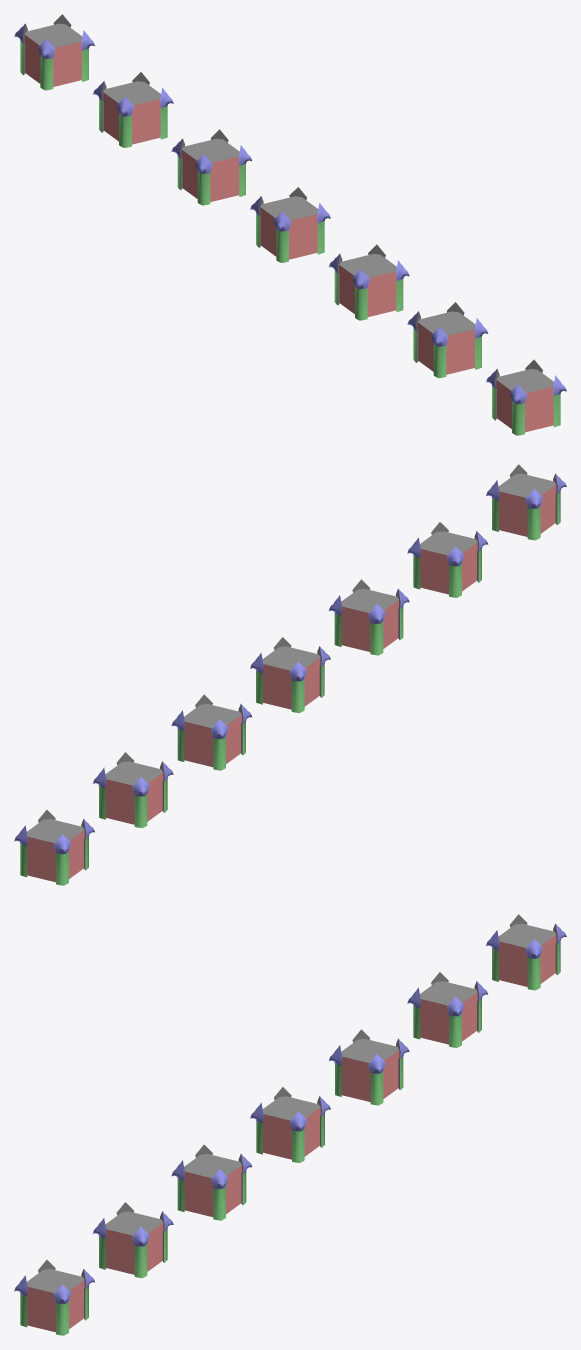
File: SSQ_dungeon_S__SSQ_Room01_pillar01.gltf
3 views of the same model, one above another, from view 1: azimuth 30°, elevation 25°; view 2: azimuth 150°, elevation 25°; view 3: azimuth 330°, elevation 25° (orthographic).
Visible parts, largest first — view 1: SSQ_Room01_pillar01; view 2: SSQ_Room01_pillar01; view 3: SSQ_Room01_pillar01.
Boxes of the visible parts, x1,y1,x2,y2 form: SSQ_Room01_pillar01: (14,14,566,435); SSQ_Room01_pillar01: (14,464,566,885); SSQ_Room01_pillar01: (14,914,566,1335).
Size of the model in its own units: 0.9691 by 0.892 by 16.33.
